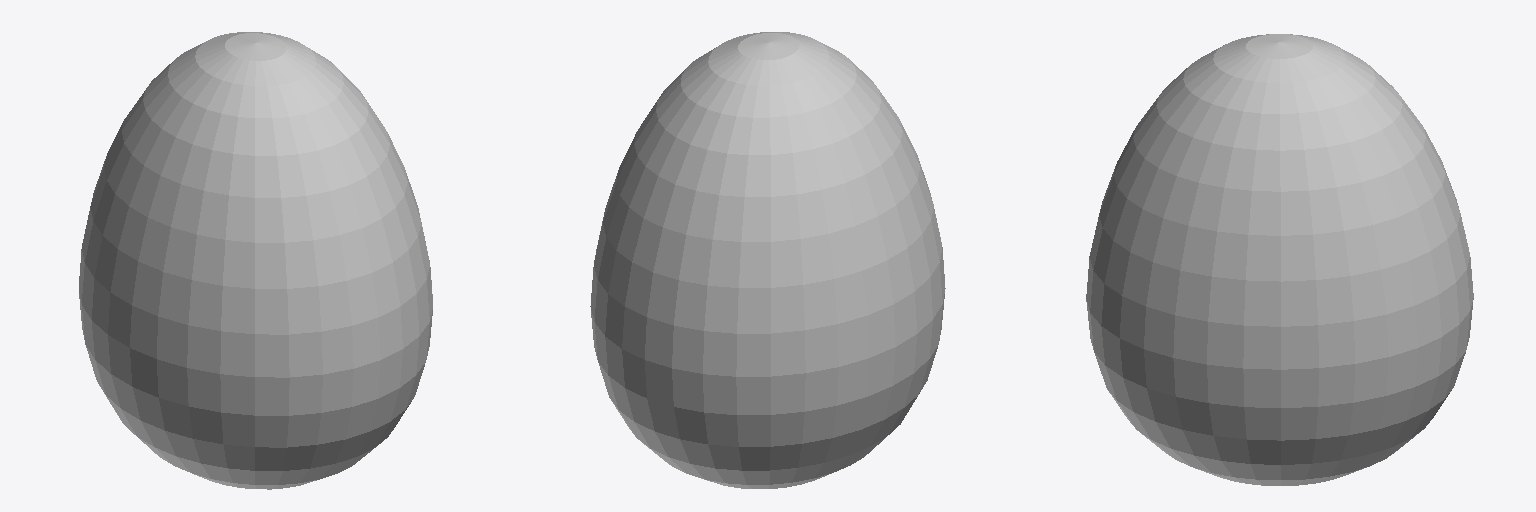
Rendered from egg.obj.
3 views of the same model, side by side, from view 1: azimuth 30°, elevation 25°; view 2: azimuth 150°, elevation 25°; view 3: azimuth 270°, elevation 25° (orthographic).
Visible parts, largest first — view 1: egg; view 2: egg; view 3: egg.
Part boxes in pixels (x1,y1,x2,y2): egg: (79, 32, 432, 489); egg: (590, 32, 945, 488); egg: (1086, 34, 1473, 485).
Size of the model in its own units: 0.6205 by 0.851 by 0.7004.